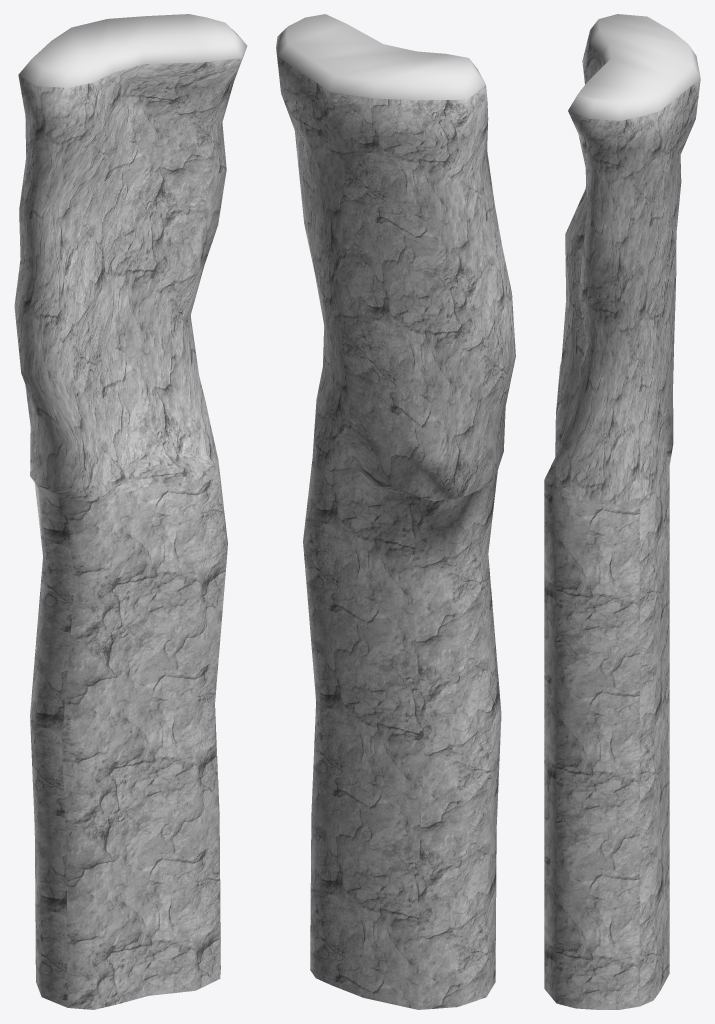
The model's file is Clif_New_03.fbx.
3 renders of one model, left to right at view 1: azimuth 30°, elevation 25°; view 2: azimuth 150°, elevation 25°; view 3: azimuth 270°, elevation 25°, orthographic.
Parts seen in each view (by area): view 1: Clif_New_03; view 2: Clif_New_03; view 3: Clif_New_03.
Boxes of the visible parts, x1,y1,x2,y2 form: Clif_New_03: (14,14,247,1009); Clif_New_03: (276,14,515,1009); Clif_New_03: (544,14,700,1009).
Size of the model in its own units: 18157 by 72076 by 11107.
